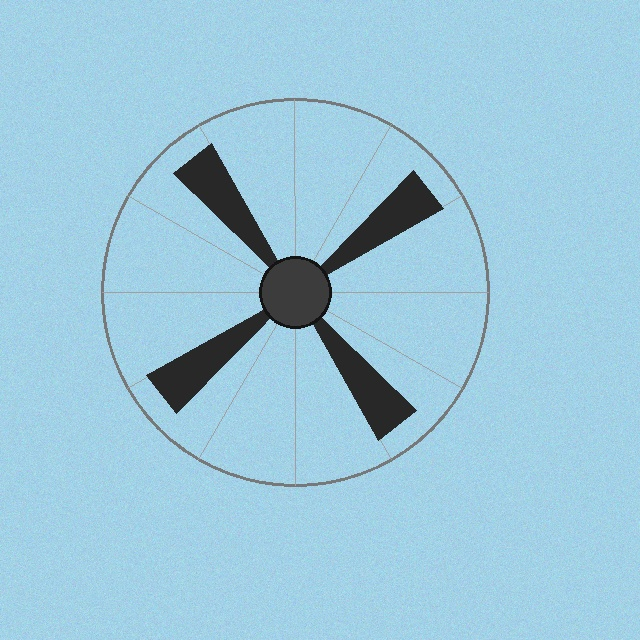fan: (97, 94, 493, 490)
